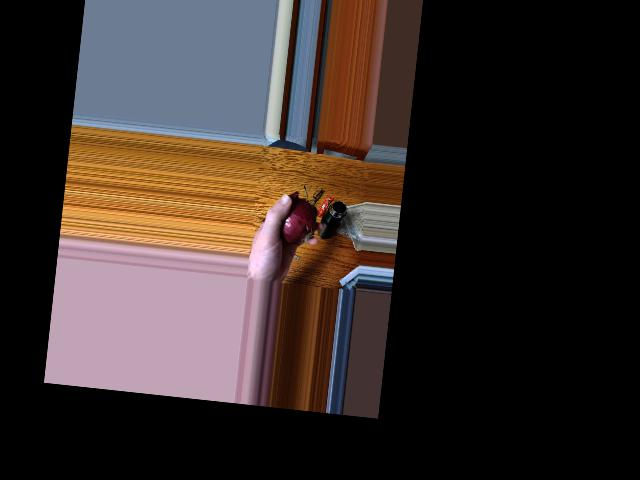onion: (273, 201, 317, 246)
